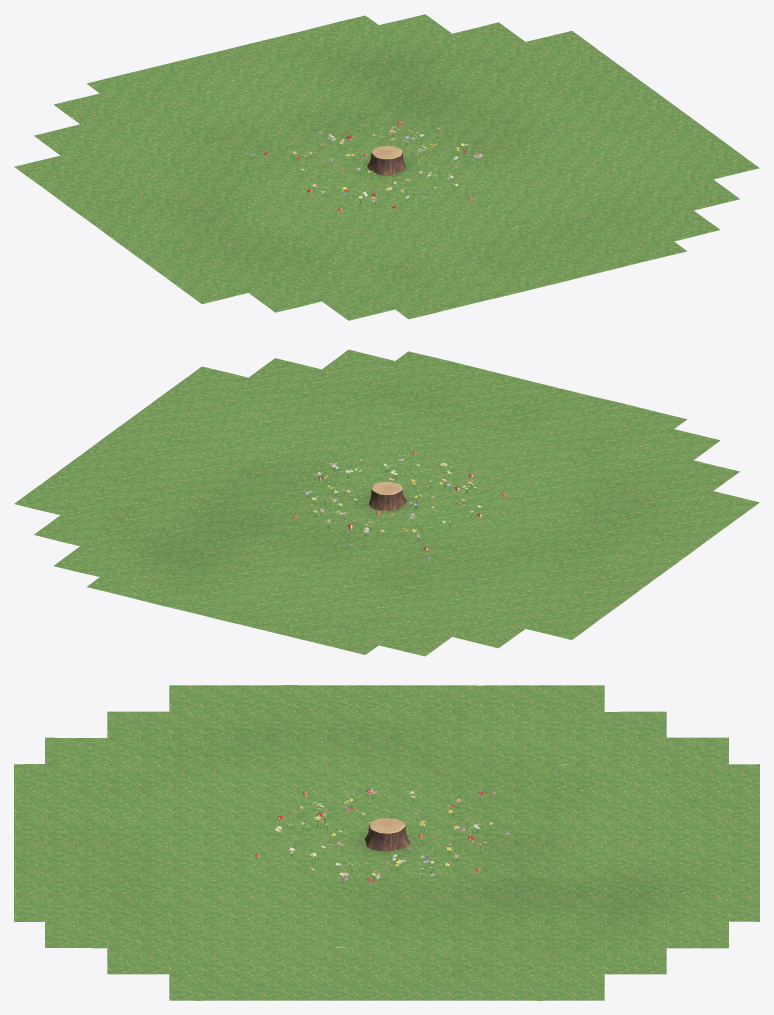
Rendered from stump.gltf.
3 renders of one model, top to bottom at view 1: azimuth 30°, elevation 25°; view 2: azimuth 150°, elevation 25°; view 3: azimuth 270°, elevation 25°, orthographic. The views are drawn at different scales.
Parts seen in each view (by area): view 1: stump_mesh; view 2: stump_mesh; view 3: stump_mesh.
Boxes of the visible parts, left/top/right/bottom form: stump_mesh: left=14, top=14, right=759, bottom=320; stump_mesh: left=14, top=349, right=759, bottom=656; stump_mesh: left=14, top=685, right=759, bottom=1000.
Size of the model in its own units: 12 by 0.37 by 12.
Materials: 1 (1 with a texture image).
